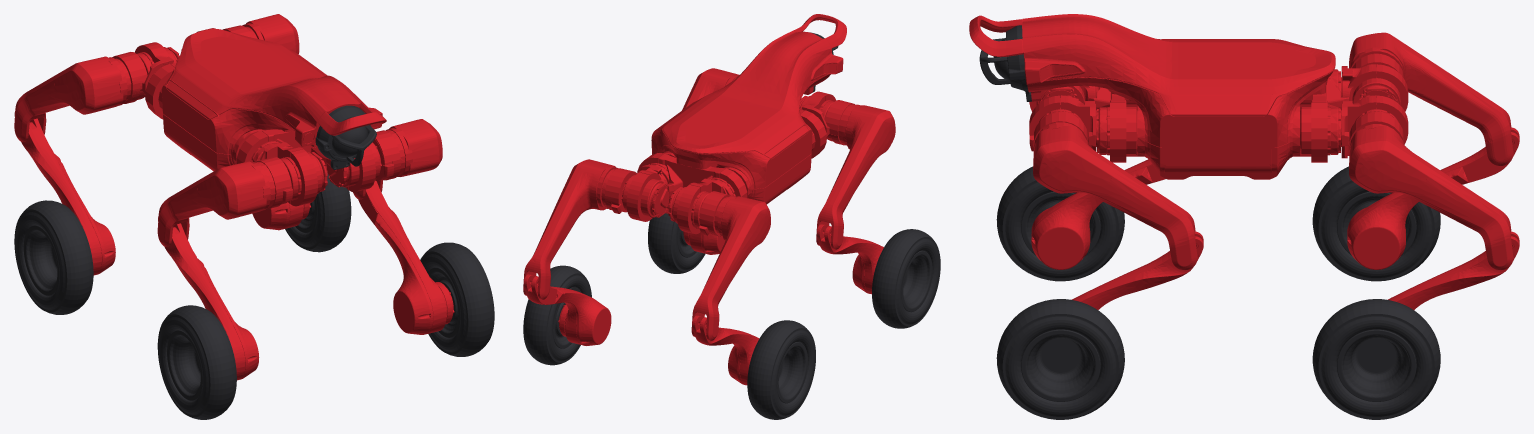
Rendered from unitree-as2w.glb.
3 views of the same model, side by side, from view 1: azimuth 30°, elevation 25°; view 2: azimuth 150°, elevation 25°; view 3: azimuth 270°, elevation 25° (orthographic). The views are drawn at different scales.
Parts seen in each view (by area): view 1: base_link_visual, RR_foot_visual, FR_foot_visual, FR_thigh_visual, RR_thigh_visual, FL_foot_visual, FL_calf_visual, FR_calf_visual, RR_calf_visual, FL_thigh_visual, RL_foot_visual, FR_hip_visual (+5 smaller); view 2: base_link_visual, FR_foot_visual, RR_foot_visual, RR_thigh_visual, FR_thigh_visual, RL_thigh_visual, RL_foot_visual, RL_calf_visual, FL_foot_visual, RL_hip_visual, FR_calf_visual, RR_calf_visual (+4 smaller); view 3: base_link_visual, RL_foot_visual, FL_foot_visual, FL_thigh_visual, RL_thigh_visual, RR_thigh_visual, RR_foot_visual, FR_foot_visual, RR_calf_visual, FR_calf_visual, RL_calf_visual, FL_calf_visual (+5 smaller).
Part boxes in pixels (box(x1,y1,x2,y2)): base_link_visual: box(145, 29, 386, 171); RR_foot_visual: box(14, 200, 93, 314); FR_foot_visual: box(157, 305, 236, 419); FR_thigh_visual: box(157, 156, 292, 246); RR_thigh_visual: box(14, 52, 147, 141); FL_foot_visual: box(420, 242, 494, 356); FL_calf_visual: box(358, 180, 454, 334); FR_calf_visual: box(158, 216, 259, 380); RR_calf_visual: box(14, 111, 115, 275); FL_thigh_visual: box(353, 119, 442, 199); RL_foot_visual: box(285, 172, 351, 252); FR_hip_visual: box(260, 142, 327, 206); base_link_visual: box(637, 14, 846, 204); FR_foot_visual: box(872, 229, 940, 328); RR_foot_visual: box(747, 320, 815, 419); RR_thigh_visual: box(691, 191, 770, 340); FR_thigh_visual: box(816, 100, 895, 249); RL_thigh_visual: box(523, 159, 636, 299); RL_foot_visual: box(523, 265, 591, 365); RL_calf_visual: box(523, 274, 611, 345); FL_foot_visual: box(648, 213, 705, 273); RL_hip_visual: box(621, 165, 668, 221); FR_calf_visual: box(816, 224, 883, 294); RR_calf_visual: box(692, 315, 759, 385); base_link_visual: box(969, 14, 1349, 179); RL_foot_visual: box(1312, 299, 1440, 419); FL_foot_visual: box(996, 299, 1124, 419); FL_thigh_visual: box(1029, 112, 1197, 270); RL_thigh_visual: box(1349, 112, 1513, 270); RR_thigh_visual: box(1349, 32, 1513, 165); RR_foot_visual: box(1312, 166, 1440, 281); FR_foot_visual: box(996, 166, 1124, 281); RR_calf_visual: box(1347, 127, 1519, 269); FR_calf_visual: box(1031, 159, 1165, 269); RL_calf_visual: box(1387, 231, 1519, 309); FL_calf_visual: box(1071, 231, 1203, 309).
Size of the model in its own units: 49.18 by 48.43 by 73.84.
